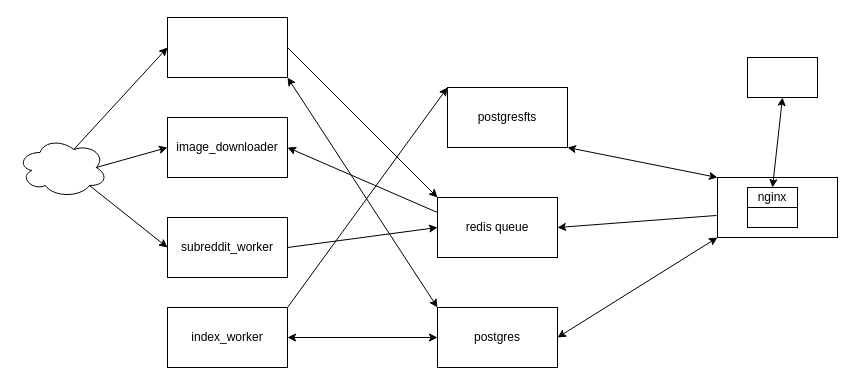
This 855x385 diagram has some shape labels left out. Each missing label, with the centre of its shape:
"api" goes at (772,217).
"client (reactjs)" goes at (782,77).
"reddit" goes at (62,167).
"reddit_worker" goes at (227,47).
